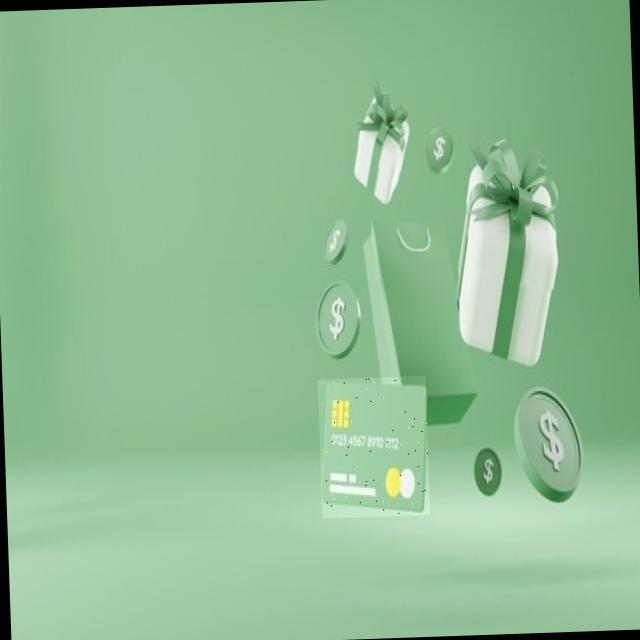payment_card: (317, 375, 428, 517)
